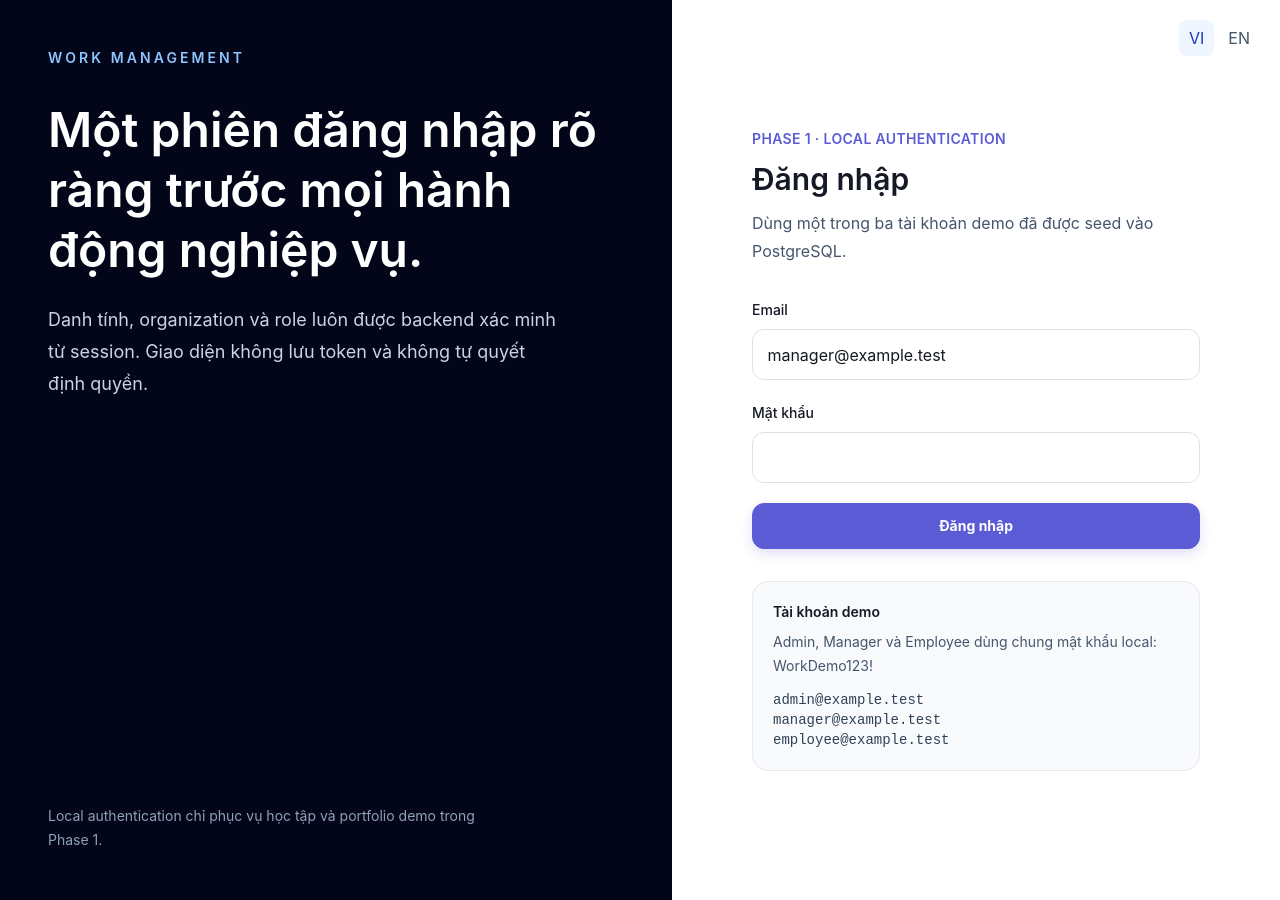
Scenario: LoginPage › shows the generic invalid-credentials message
The width and height of the screenshot is (1280, 900).
Type "wrong-password" into the password field labelled "Mật khẩu". click: point(976, 457)
box: 752,432 -> 1200,483
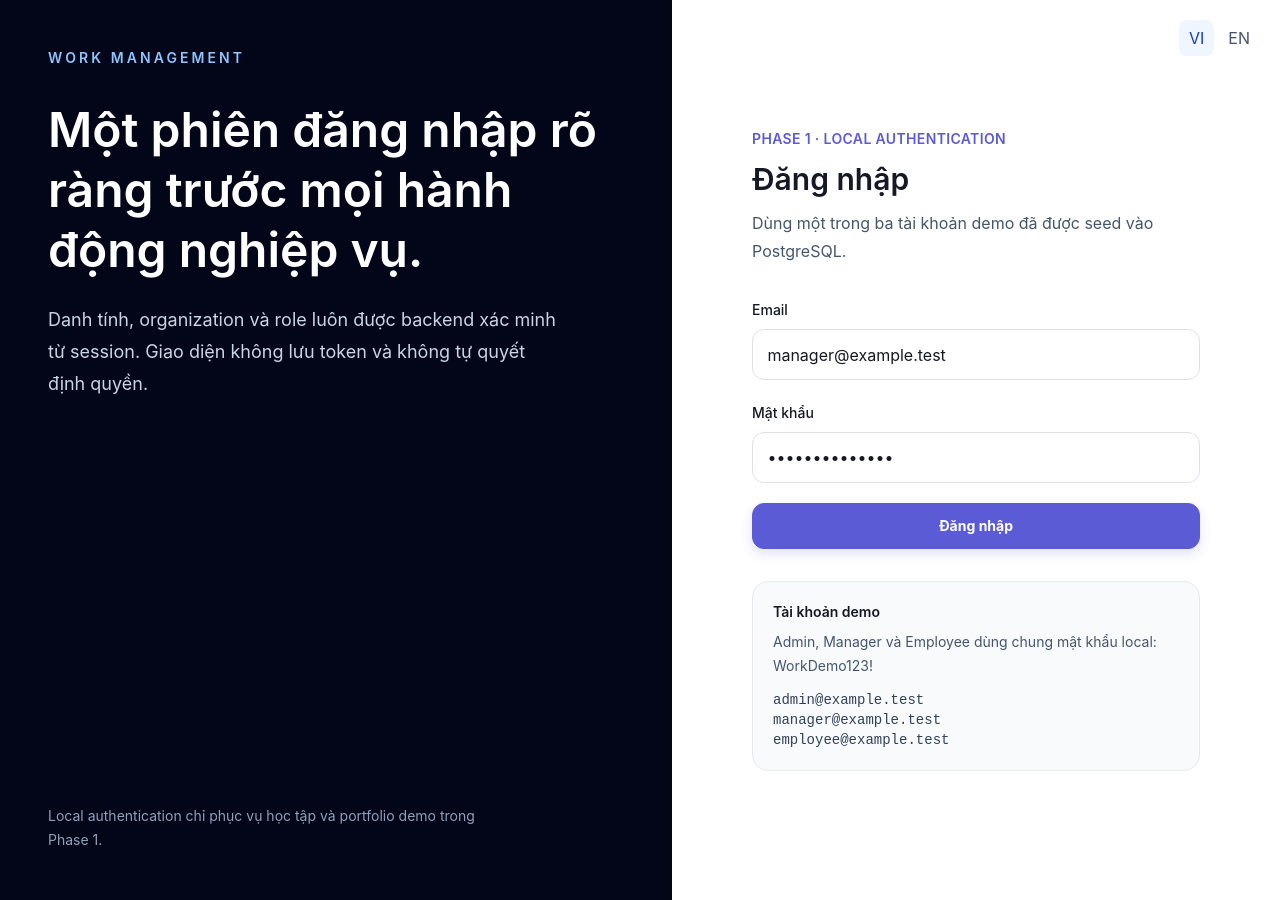
Click the button "Đăng nhập". click: point(976, 526)
box: 752,503 -> 1200,549
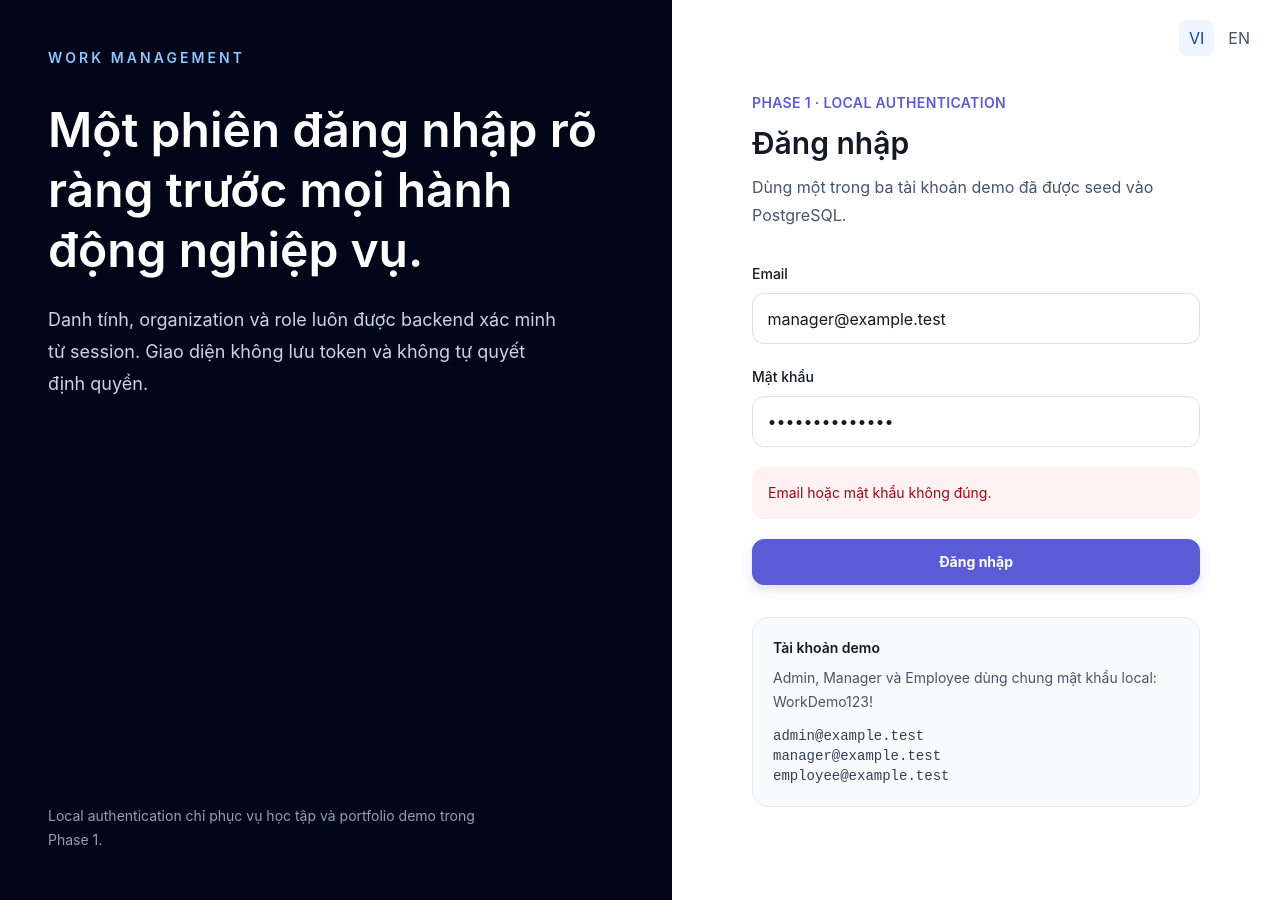
Expected: the message reads "Email hoặc mật khẩu không đúng.", 768,484 -> 992,501
